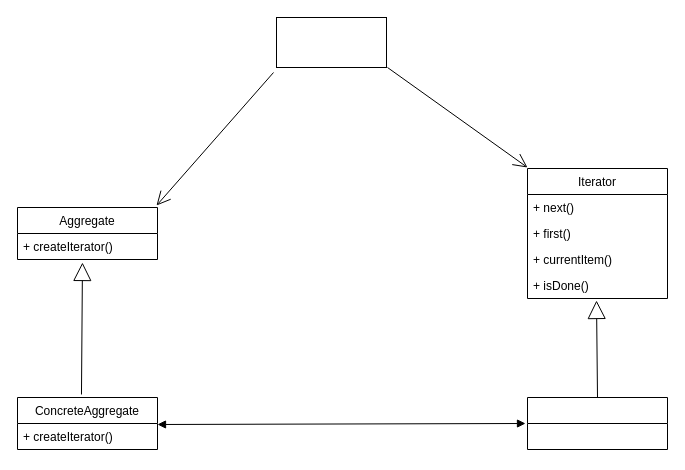
The diagram is 685 pixels wide and 470 high, and some of its shapes have lost their labels. Here are the shapes that lost their labels. From the top down, the centre of each, then its label:
At pixel 331 42: "Client".
At pixel 597 423: "ConcreteIterator".
